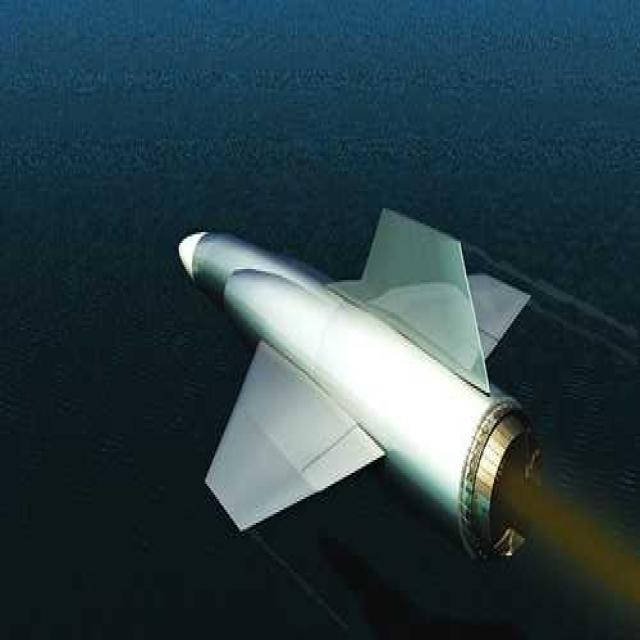missile: (178, 209, 539, 578)
